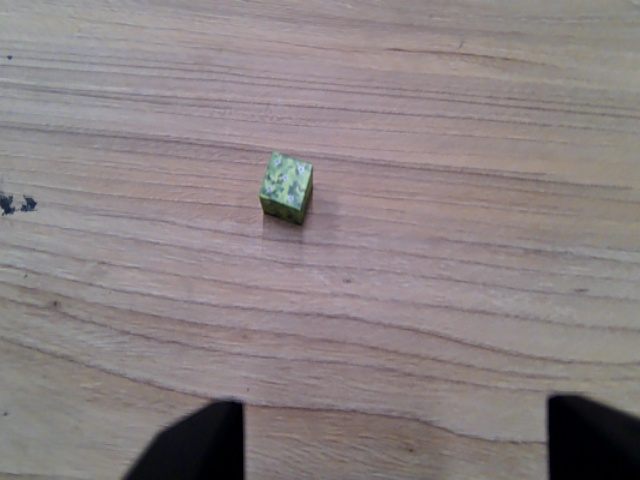grass: (260, 153, 315, 224)
